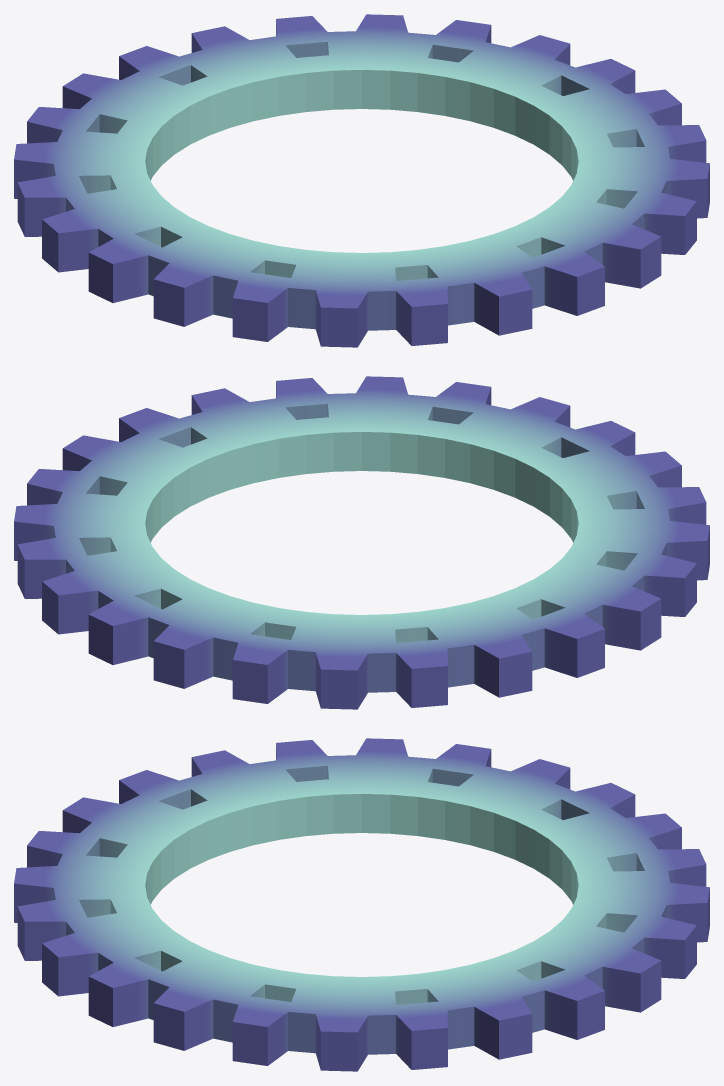
The model's file is gear1.fbx.
3 renders of one model, top to bottom at view 1: azimuth 30°, elevation 25°; view 2: azimuth 150°, elevation 25°; view 3: azimuth 270°, elevation 25°, orthographic.
Parts seen in each view (by area): view 1: gear1; view 2: gear1; view 3: gear1.
Boxes of the visible parts, box(x1,y1,x2,y2) form: gear1: box(14, 14, 709, 347); gear1: box(14, 376, 709, 709); gear1: box(14, 738, 709, 1071).
Bounding box in the file's own units: 403 × 25.02 × 403.
1 material, 1 textured.
